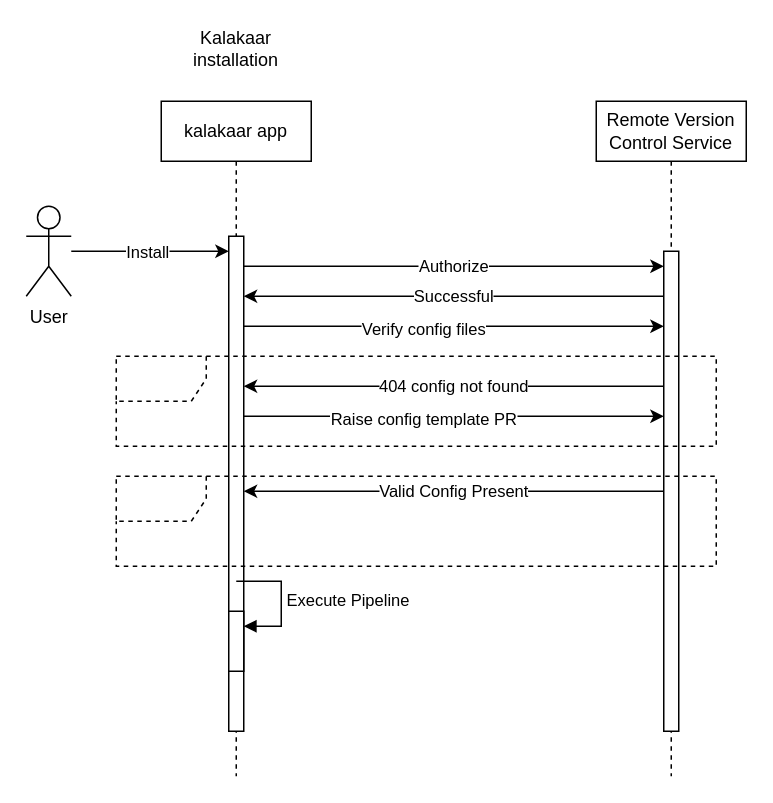
Some shapes in this 773 by 803 pixel diagram are drawn without their labels. The shapes that lost their labels are listed below. From the top down, each one's box as (x1, y1, x2, y2) in pixels, then its label:
(115, 355, 716, 446): Unconfigured
(115, 475, 716, 566): Configured
